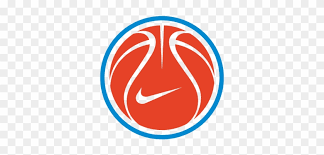nike: (128, 77, 194, 109)
